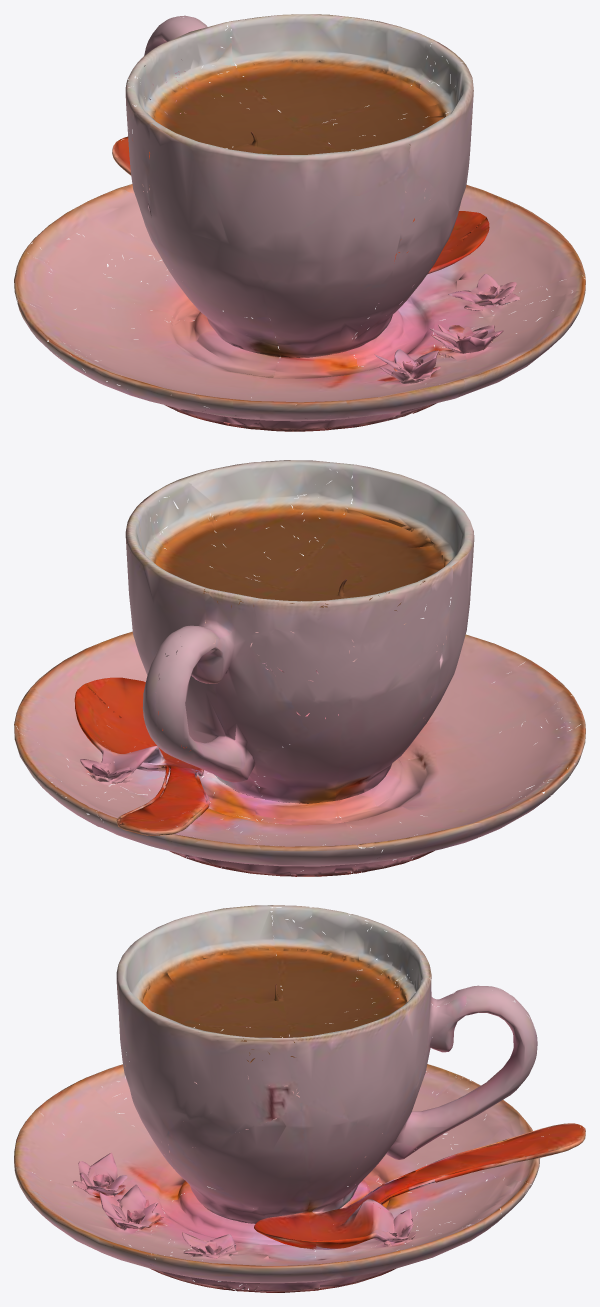
Rendered from pink_coffee.glb.
The picture shows the model from 3 angles, top to bottom: view 1: azimuth 30°, elevation 25°; view 2: azimuth 150°, elevation 25°; view 3: azimuth 270°, elevation 25°; orthographic projection. The views are drawn at different scales.
Visible parts, largest first — view 1: Object_4; view 2: Object_4; view 3: Object_4.
Boxes of the visible parts, x1,y1,x2,y2 form: Object_4: [14, 14, 585, 431]; Object_4: [14, 460, 585, 876]; Object_4: [14, 905, 585, 1292].
Bounding box in the file's own units: 0.9282 × 0.4861 × 0.9995.
Materials: 1 (1 with a texture image).
